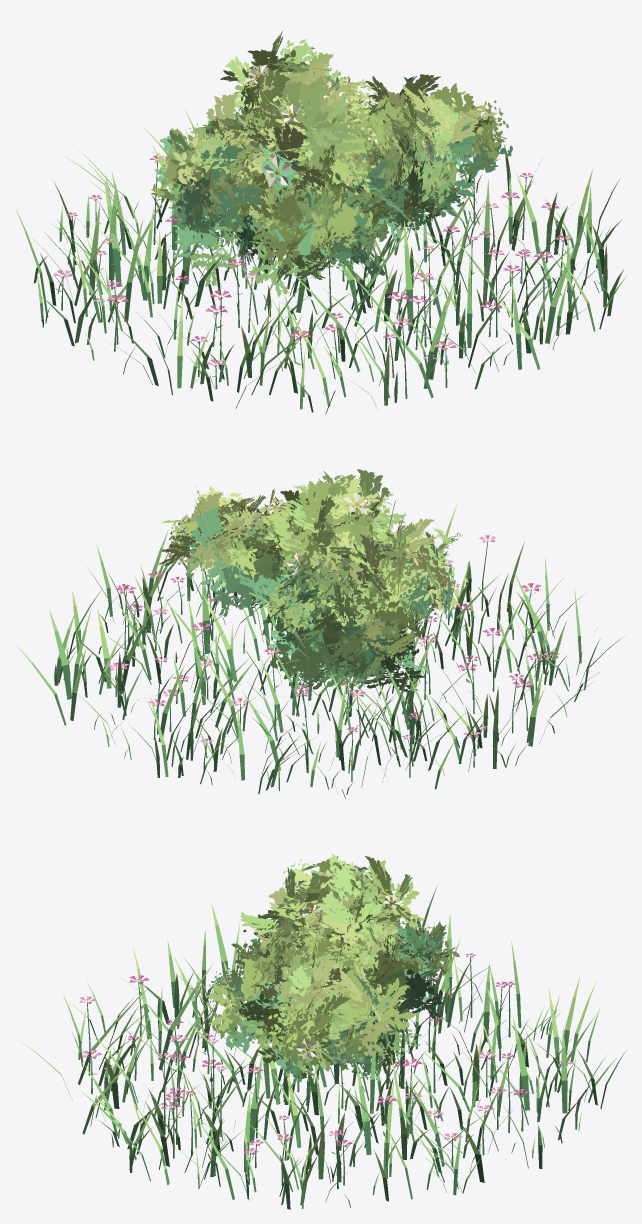
The model's file is Nature_Island_02_Bush.glb.
The picture shows the model from 3 angles, top to bottom: view 1: azimuth 30°, elevation 25°; view 2: azimuth 150°, elevation 25°; view 3: azimuth 270°, elevation 25°; orthographic projection. The views are drawn at different scales.
Parts seen in each view (by area): view 1: Nature_Island_02_Bush; view 2: Nature_Island_02_Bush; view 3: Nature_Island_02_Bush.
Boxes of the visible parts, x1,y1,x2,y2 form: Nature_Island_02_Bush: (15,31,626,413); Nature_Island_02_Bush: (15,469,622,798); Nature_Island_02_Bush: (20,854,626,1209).
Bounding box in the file's own units: 3.9 × 1.69 × 3.94.
Materials: 16 (6 with a texture image).
